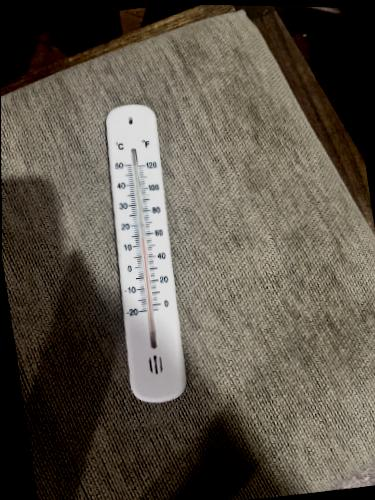thermo: (103, 100, 185, 403)
